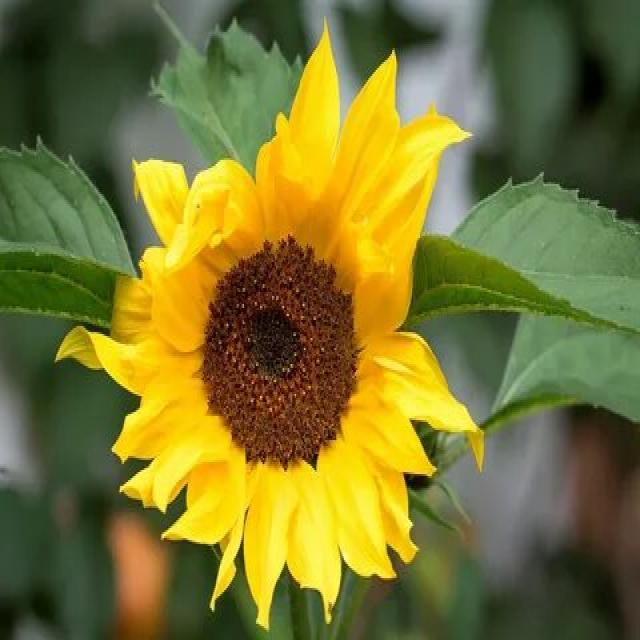sunflower: (51, 15, 491, 634)
